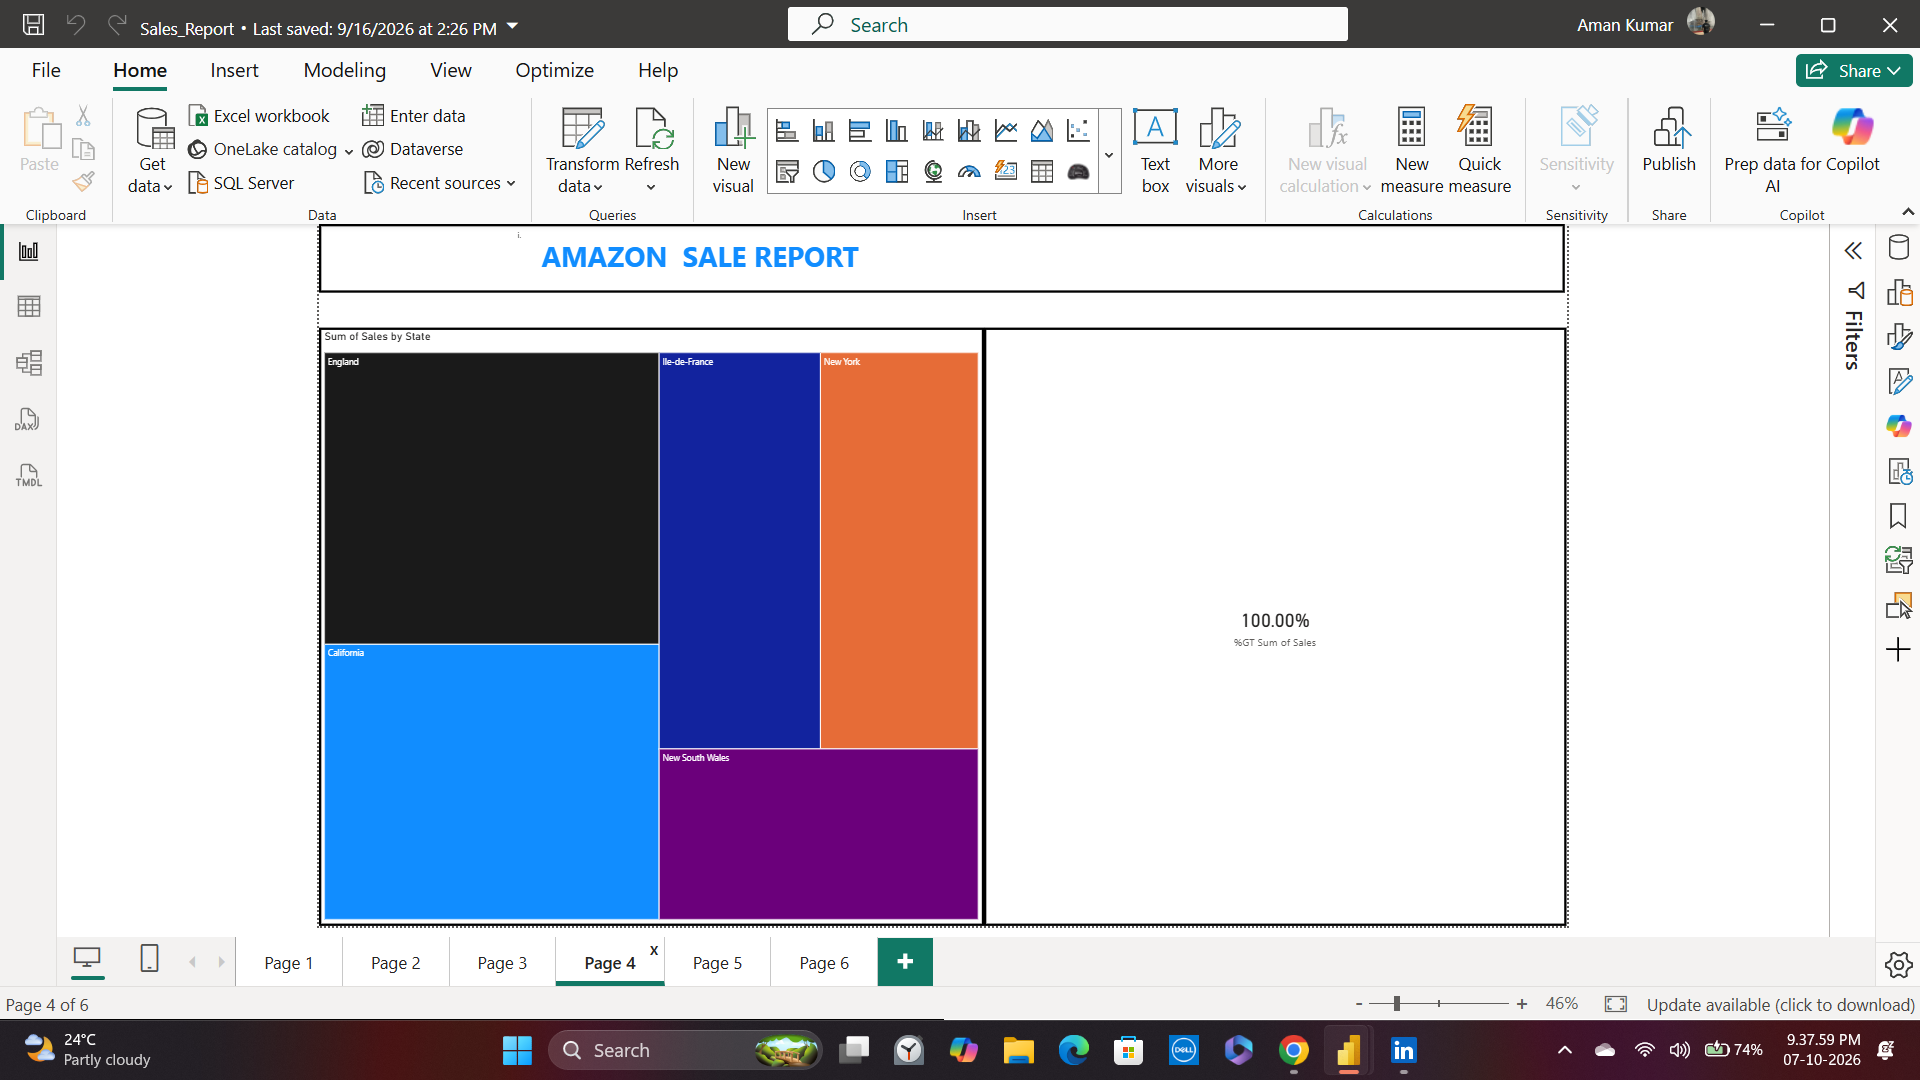

The page's visual inventory and layout, read from the dashboard file:
{"tool":"powerbi","page":{"name":"Page 4","canvas":[1920,1080],"ordinal":3},"visuals":[{"type":"treemap","fields":{"Group":["Orders.State"],"Values":["Sum(Orders.Sales)"]},"box":[0,159.1,1023.8,920.4],"z":0},{"type":"card","fields":{"Values":["Sum(Orders.Sales)"]},"box":[1023.8,159.1,896.5,920.4],"z":1000},{"type":"textbox","box":[0,0,1917.4,105.6],"z":2000}]}

Visuals, with their boxes on the page's 1920x1080 design canvas (x1, y1, x2, y2). These are canvas units, not pixel positions in the 1920x1080 screenshot, which may show the page scaled, cropped or inside an application window:
treemap - Orders.State x Sum(Orders.Sales): bbox=(0, 159, 1024, 1080)
card - Sum(Orders.Sales): bbox=(1024, 159, 1920, 1080)
textbox: bbox=(0, 0, 1917, 106)
